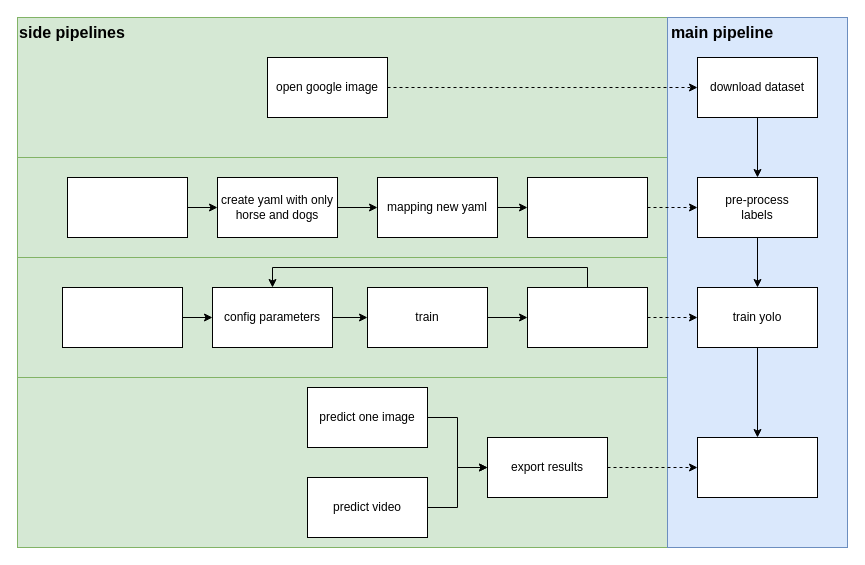
The diagram is 865 pixels wide and 565 high, and some of its shapes have lost their labels. Here are the shapes that lost their labels. From the top down, the centre of each, then its label:
the point at 127,207: export to yolo format
the point at 587,207: remove others labels from txt's
the point at 122,317: config cuda
the point at 587,317: verify results
the point at 757,467: predict
